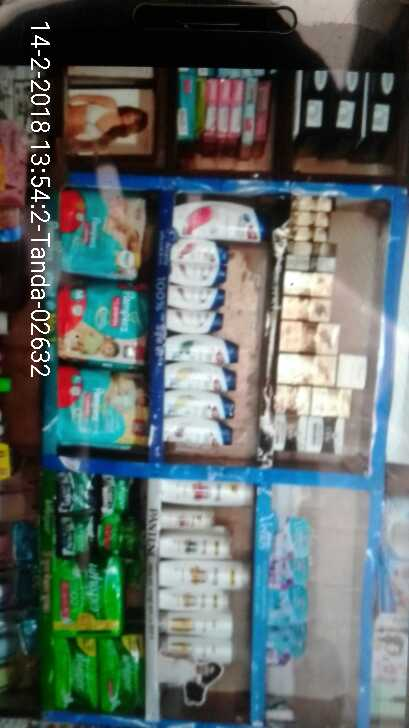venus: (267, 585, 309, 623), (267, 623, 308, 661), (275, 518, 314, 556), (275, 556, 309, 585)
